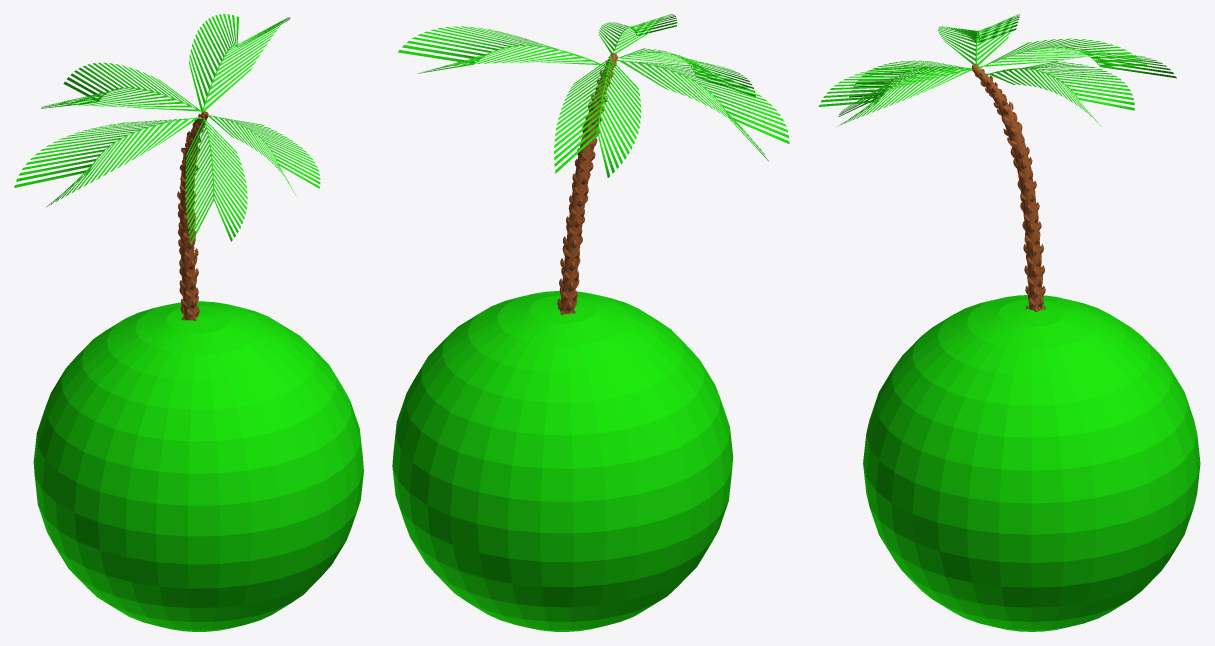
The model's file is ilha.glb.
The picture shows the model from 3 angles, left to right: view 1: azimuth 30°, elevation 25°; view 2: azimuth 150°, elevation 25°; view 3: azimuth 270°, elevation 25°; orthographic projection. The views are drawn at different scales.
Parts seen in each view (by area): view 1: Sphere, BezierCurve.003, BezierCurve; view 2: Sphere, BezierCurve.003, BezierCurve; view 3: Sphere, BezierCurve.003, BezierCurve.
Boxes of the visible parts, x1,y1,x2,y2 form: Sphere: (33, 301, 363, 631); BezierCurve.003: (14, 14, 320, 244); BezierCurve: (177, 111, 208, 320); Sphere: (392, 291, 733, 631); BezierCurve.003: (398, 14, 789, 177); BezierCurve: (557, 53, 617, 314); Sphere: (863, 295, 1200, 631); BezierCurve.003: (818, 14, 1176, 126); BezierCurve: (971, 64, 1045, 311).
Bounding box in the file's own units: 2.34 × 3.72 × 2.26.
